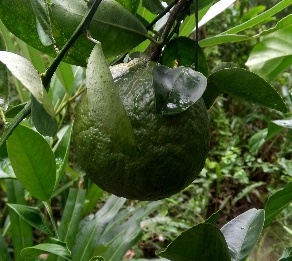Cam: (69, 56, 212, 201)
